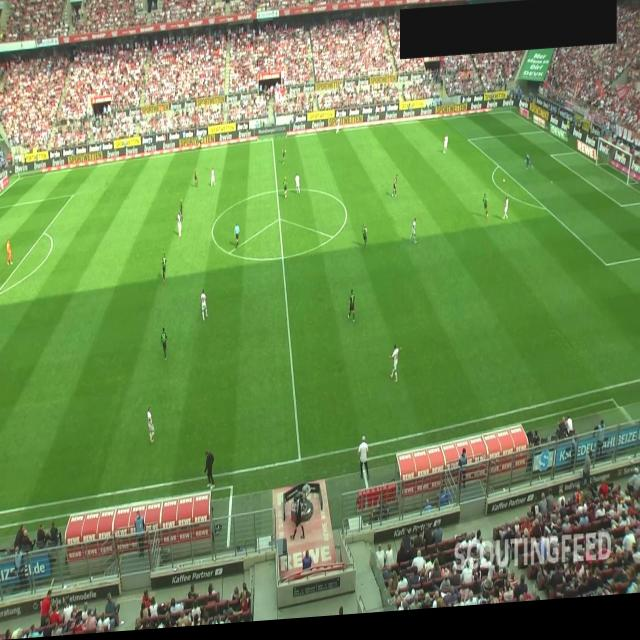goalkeeper: (6, 239, 12, 266), (525, 160, 533, 178)
player: (388, 349, 402, 389), (147, 407, 155, 445), (347, 293, 355, 328), (160, 329, 168, 363), (408, 224, 418, 250), (200, 292, 208, 324), (483, 200, 489, 228), (176, 215, 182, 240), (362, 229, 368, 254), (392, 180, 398, 204), (503, 205, 509, 228), (295, 177, 301, 200), (162, 254, 166, 287), (210, 170, 216, 191), (443, 141, 449, 161), (283, 180, 287, 203), (179, 200, 183, 221), (282, 149, 286, 168), (194, 171, 198, 190)
referee: (234, 226, 240, 253), (198, 135, 202, 153)
